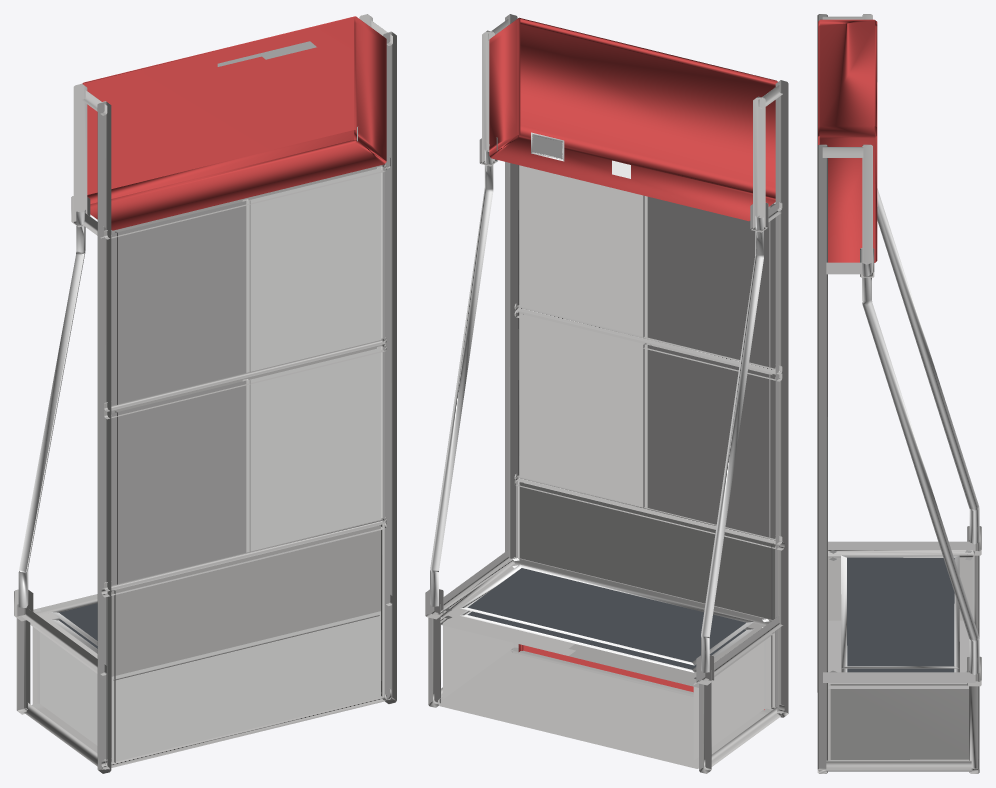
The model's file is rack_clothing_2_02x01x045_e.glb.
3 renders of one model, left to right at view 1: azimuth 30°, elevation 25°; view 2: azimuth 150°, elevation 25°; view 3: azimuth 270°, elevation 25°, orthographic. The views are drawn at different scales.
Size of the model in its own units: 1.6 by 3.42 by 0.8127.
